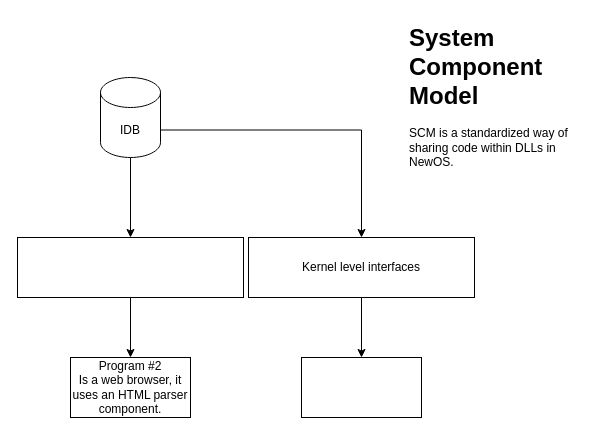
The diagram is 605 pixels wide and 435 high, and some of its shapes have lost their labels. The centre of each missing label's shape, as x and y in pixels:
HAL #1 Takes care of a specific device support.: the point at 361,387
User level interfaces: the point at 130,267
